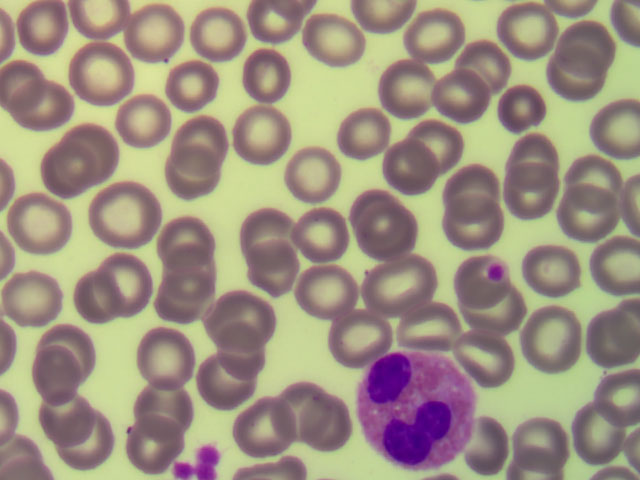Platelets: (179, 442, 227, 480)
RBC: (362, 354, 475, 466), (13, 2, 75, 57), (69, 44, 131, 99), (8, 81, 70, 136), (58, 124, 120, 179), (32, 144, 94, 199), (8, 196, 70, 251), (3, 271, 65, 326), (29, 320, 91, 375), (30, 353, 92, 408), (32, 395, 94, 450), (49, 411, 111, 466), (120, 423, 182, 478), (128, 383, 190, 438), (136, 334, 198, 389), (101, 247, 163, 302), (75, 260, 137, 315), (90, 186, 152, 241), (158, 148, 220, 203), (173, 113, 235, 168), (113, 91, 175, 146), (164, 61, 226, 116), (129, 1, 191, 56), (192, 7, 254, 62), (242, 47, 304, 102), (230, 108, 292, 163), (231, 198, 293, 253), (247, 238, 309, 293), (205, 294, 267, 349), (207, 331, 269, 386), (192, 358, 254, 413), (224, 406, 286, 461), (263, 381, 325, 436), (304, 403, 366, 458), (151, 208, 213, 263), (162, 252, 224, 307), (152, 273, 214, 328), (298, 206, 360, 261), (294, 260, 356, 315), (325, 312, 387, 367), (372, 253, 434, 308), (413, 299, 475, 354), (448, 326, 510, 381), (471, 284, 533, 339), (458, 252, 520, 307), (444, 197, 506, 252), (435, 168, 497, 223), (367, 203, 429, 258), (349, 181, 411, 236), (281, 145, 343, 200), (330, 109, 392, 164), (378, 145, 440, 200), (395, 122, 457, 177), (376, 58, 438, 113), (439, 66, 501, 121), (453, 50, 515, 105), (399, 2, 461, 57), (301, 12, 363, 67), (501, 1, 563, 56), (543, 47, 605, 102), (560, 14, 622, 69), (498, 81, 560, 136), (505, 113, 567, 168), (498, 163, 560, 218), (557, 196, 619, 251), (569, 151, 631, 206), (578, 95, 640, 150), (528, 243, 590, 298), (578, 237, 640, 292), (528, 309, 590, 364), (578, 311, 640, 366), (578, 364, 640, 419), (578, 411, 640, 466), (510, 413, 572, 468), (470, 421, 532, 476), (1, 44, 62, 99), (76, 1, 138, 55)
